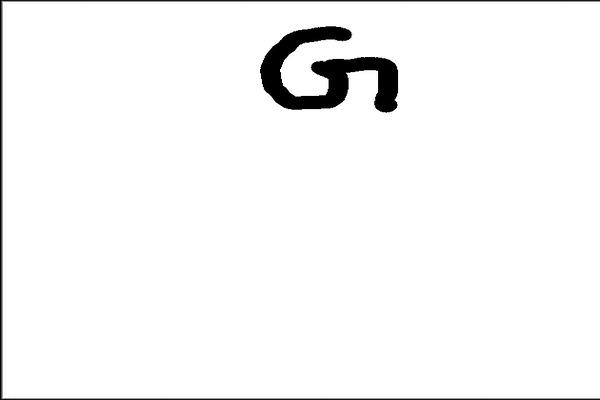G: (255, 22, 405, 119)
